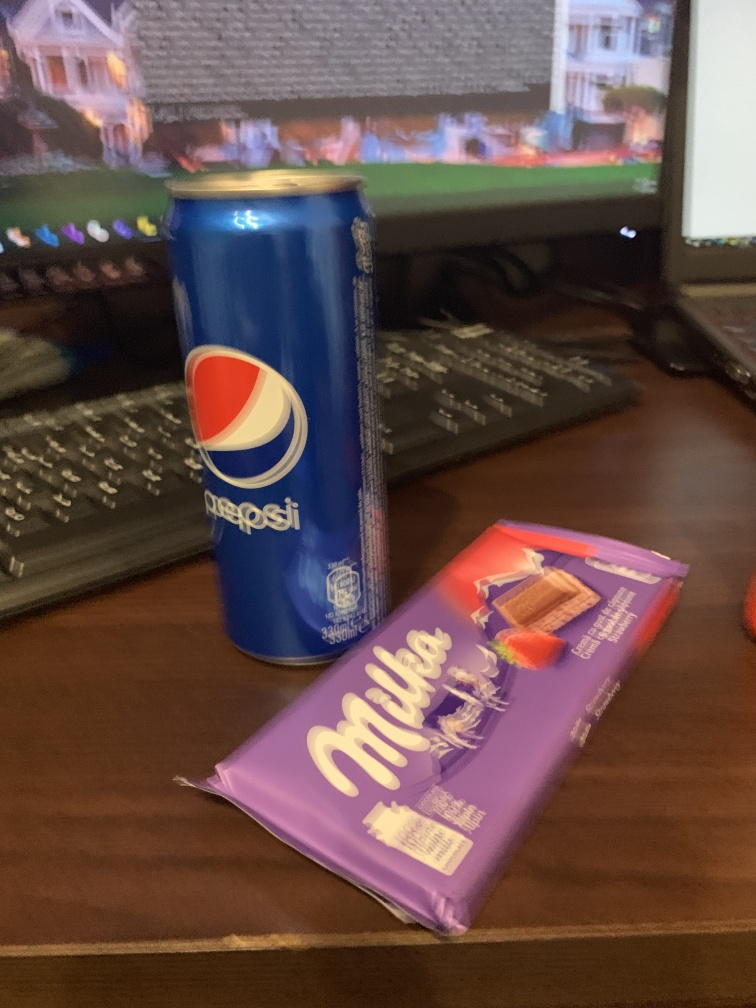milka: (166, 517, 690, 931)
pepsi: (161, 166, 406, 680)
